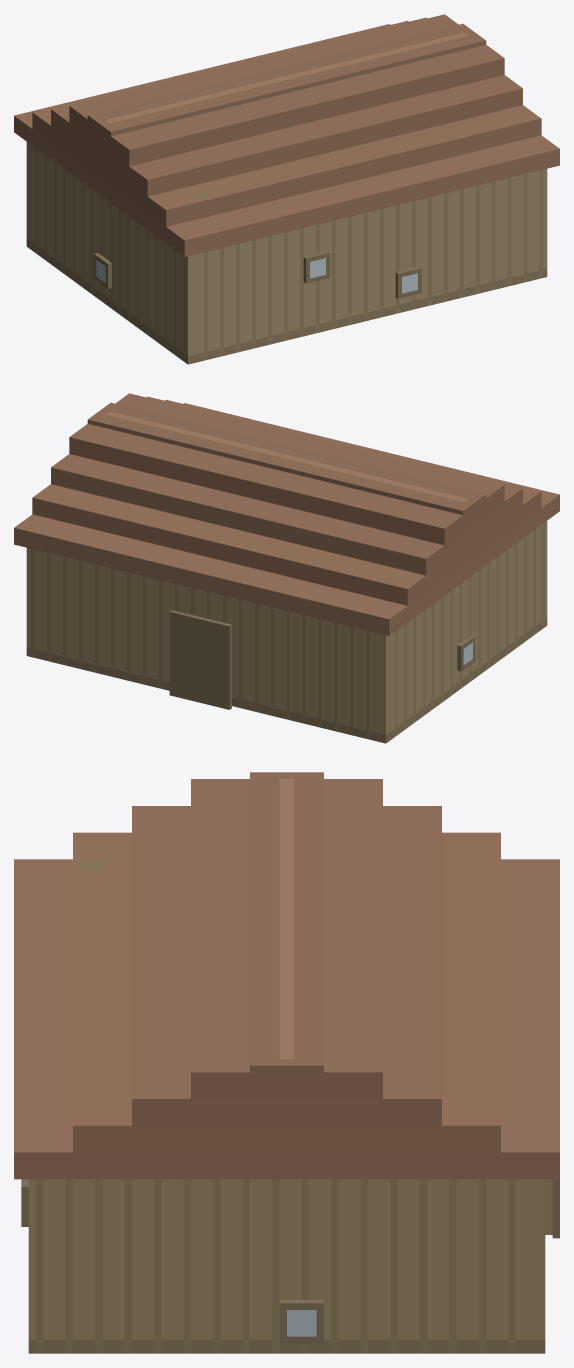
Rendered from astillero_03.glb.
The picture shows the model from 3 angles, top to bottom: view 1: azimuth 30°, elevation 25°; view 2: azimuth 150°, elevation 25°; view 3: azimuth 270°, elevation 25°; orthographic projection. The views are drawn at different scales.
Parts seen in each view (by area): view 1: astillero_03; view 2: astillero_03; view 3: astillero_03.
Part boxes in pixels (x1=…): astillero_03: x1=14, y1=14, x2=559, y2=364; astillero_03: x1=14, y1=393, x2=559, y2=743; astillero_03: x1=14, y1=772, x2=559, y2=1353.
Bounding box in the file's own units: 9.4 × 4.4 × 7.4.
